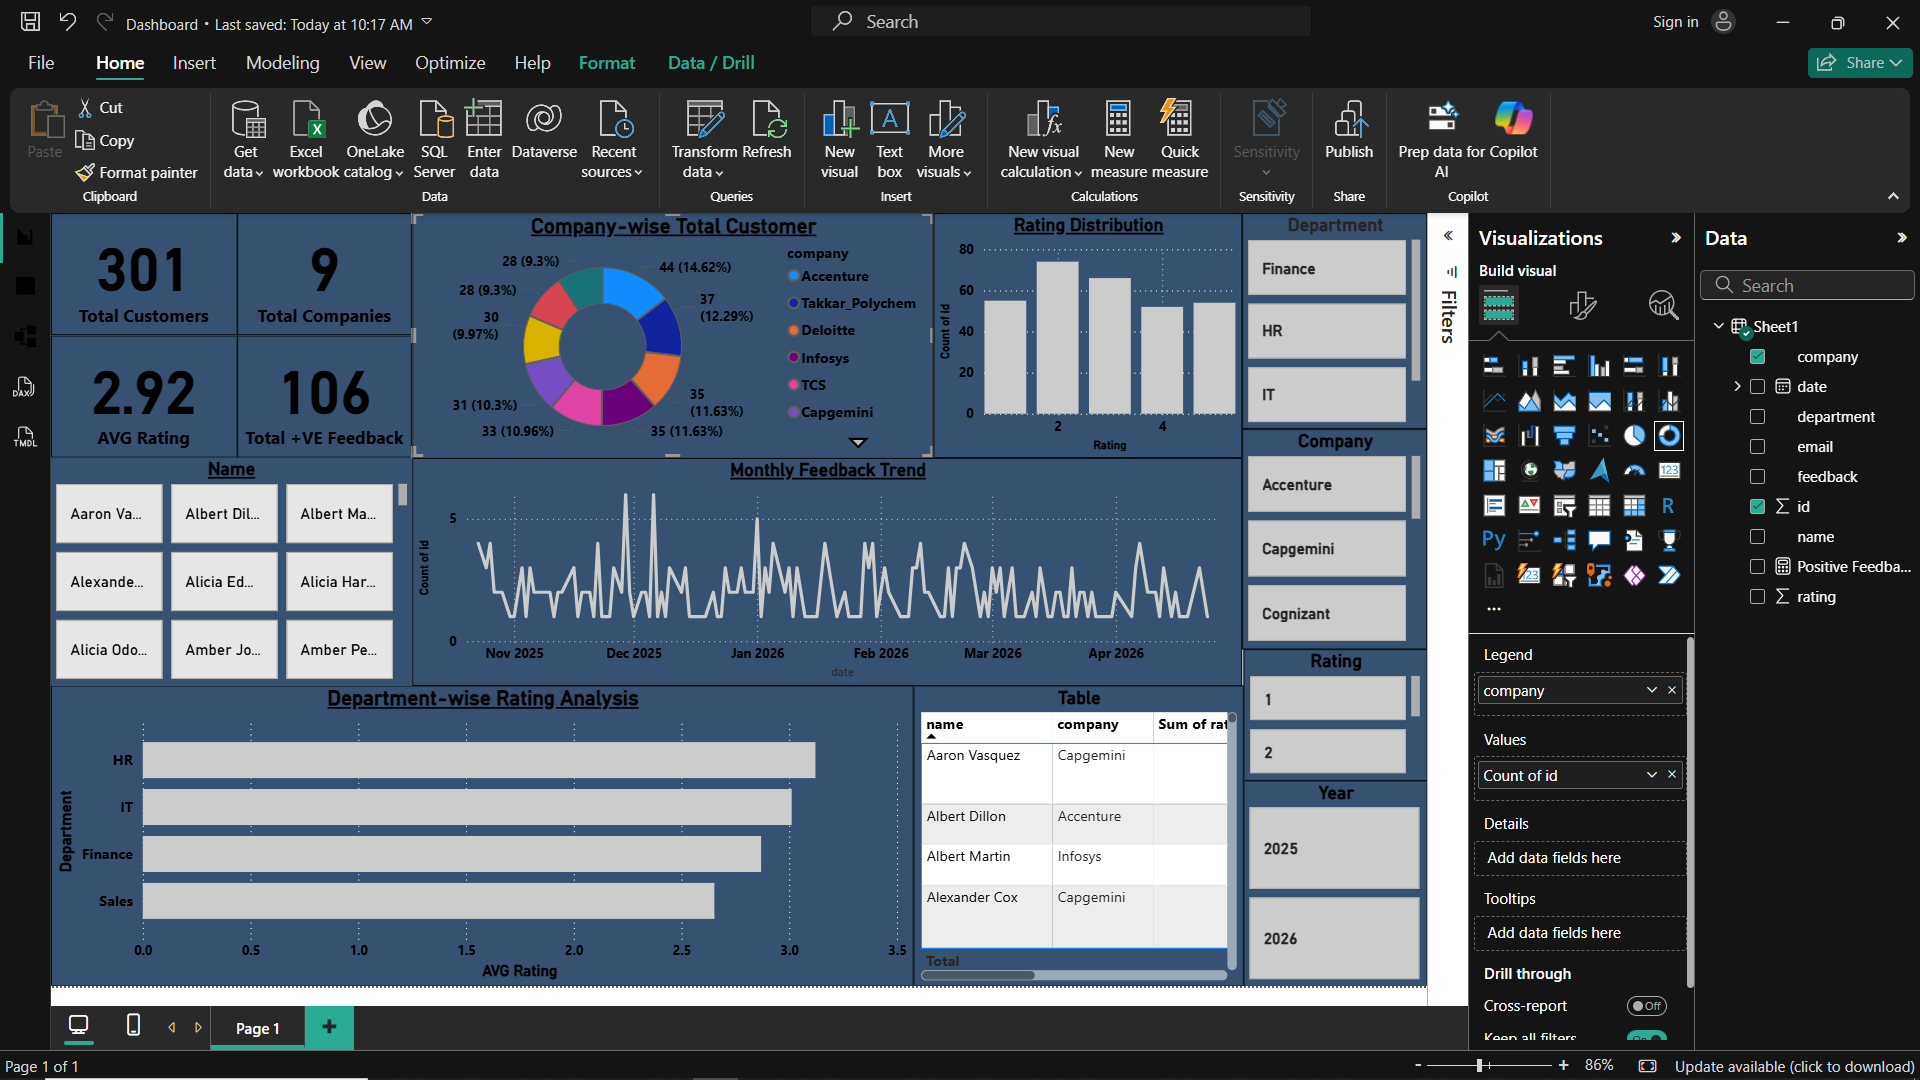

What the dashboard file says about the page in this screenshot:
{"tool":"powerbi","page":{"name":"Page 1","canvas":[1280,720],"ordinal":0},"visuals":[{"type":"card","fields":{"Values":["CountNonNull(Sheet1.id)"]},"box":[0,0,173.3,114],"z":0},{"type":"card","fields":{"Values":["Avg(Sheet1.rating)"]},"box":[0,114,173.3,114],"z":1000},{"type":"card","fields":{"Values":["Count(Sheet1.company)"]},"box":[173.3,0,162.8,114],"z":2000},{"type":"card","fields":{"Values":["Sheet1.Positive Feedback Count"]},"box":[173.3,114,162.8,114],"z":3000},{"type":"clusteredBarChart","title":"Department-wise Rating Analysis","fields":{"Category":["Sheet1.department"],"Y":["Avg(Sheet1.rating)"]},"box":[0,439.5,802.3,280.2],"z":4000},{"type":"donutChart","title":"Company-wise Total Customer","fields":{"Category":["Sheet1.company"],"Y":["CountNonNull(Sheet1.id)"]},"box":[336,0,484.9,227.9],"z":5000},{"type":"lineChart","title":"Monthly Feedback Trend","fields":{"Y":["CountNonNull(Sheet1.id)"],"Category":["Sheet1.date"]},"box":[336,227.9,772.1,211.6],"z":6000},{"type":"clusteredColumnChart","title":"Rating Distribution","fields":{"Y":["CountNonNull(Sheet1.id)"],"Category":["Sheet1.rating"]},"box":[820.9,0,287.2,227.9],"z":7000},{"type":"tableEx","title":"Table","fields":{"Values":["Sheet1.name","Sheet1.company","Sum(Sheet1.rating)","Sheet1.department","Sheet1.feedback","Sheet1.date.Variation.Date Hierarchy.Year","Sheet1.date.Variation.Date Hierarchy.Quarter","Sheet1.date.Variation.Date Hierarchy.Month","Sheet1.date.Variation.Date Hierarchy.Day"]},"box":[802.3,439.5,307,280.2],"z":8000},{"type":"advancedSlicerVisual","title":"Department","fields":{"Values":["Sheet1.department"]},"box":[1108.1,0,172.1,201.2],"z":9000},{"type":"advancedSlicerVisual","title":"Company","fields":{"Values":["Sheet1.company"]},"box":[1108.1,201.2,172.1,204.7],"z":10000},{"type":"advancedSlicerVisual","title":"Rating","fields":{"Values":["Sheet1.rating"]},"box":[1109.3,405.8,170.9,122.1],"z":11000},{"type":"advancedSlicerVisual","fields":{"Values":["Sheet1.date.Variation.Date Hierarchy.Year"]},"box":[1109.3,527.9,170.9,191.9],"z":12000},{"type":"advancedSlicerVisual","fields":{"Values":["Sheet1.name"]},"box":[0,227.9,336,211.6],"z":12001}]}

Visuals, with their boxes on the page's 1280x720 design canvas (x1, y1, x2, y2). These are canvas units, not pixel positions in the 1920x1080 screenshot, which may show the page scaled, cropped or inside an application window:
card - CountNonNull(Sheet1.id): crop(0, 0, 173, 114)
card - Avg(Sheet1.rating): crop(0, 114, 173, 228)
card - Count(Sheet1.company): crop(173, 0, 336, 114)
card - Sheet1.Positive Feedback Count: crop(173, 114, 336, 228)
"Department-wise Rating Analysis" clusteredBarChart: crop(0, 440, 802, 720)
"Company-wise Total Customer" donutChart: crop(336, 0, 821, 228)
"Monthly Feedback Trend" lineChart: crop(336, 228, 1108, 440)
"Rating Distribution" clusteredColumnChart: crop(821, 0, 1108, 228)
"Table" tableEx: crop(802, 440, 1109, 720)
"Department" advancedSlicerVisual: crop(1108, 0, 1280, 201)
"Company" advancedSlicerVisual: crop(1108, 201, 1280, 406)
"Rating" advancedSlicerVisual: crop(1109, 406, 1280, 528)
advancedSlicerVisual - Sheet1.date.Variation.Date Hierarchy.Year: crop(1109, 528, 1280, 720)
advancedSlicerVisual - Sheet1.name: crop(0, 228, 336, 440)
